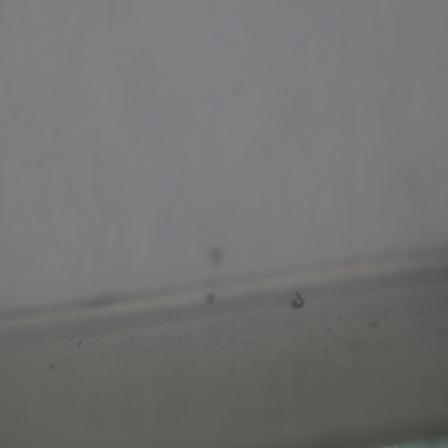Jentik-Nyamuk: (288, 288, 309, 314)
